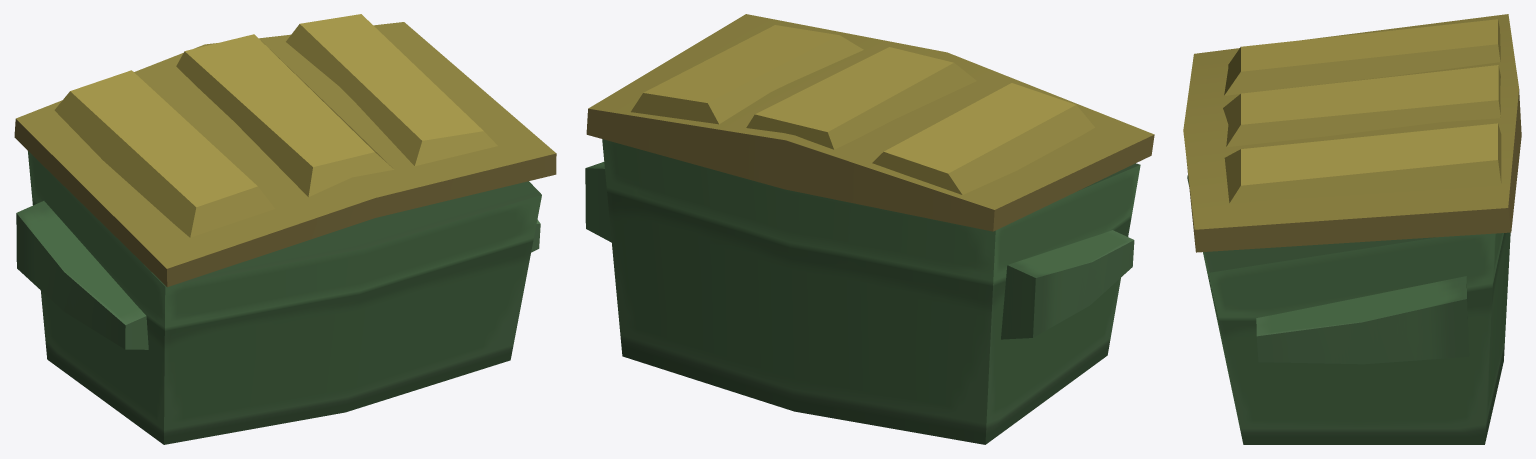
The model's file is Dumpster_A1.fbx.
3 renders of one model, left to right at view 1: azimuth 30°, elevation 25°; view 2: azimuth 150°, elevation 25°; view 3: azimuth 270°, elevation 25°, orthographic. The views are drawn at different scales.
Visible parts, largest first — view 1: Dumpster_A1; view 2: Dumpster_A1; view 3: Dumpster_A1.
Part boxes in pixels (x1,y1,x2,y2): Dumpster_A1: (14,14,556,444); Dumpster_A1: (585,14,1154,444); Dumpster_A1: (1183,14,1521,444).
Size of the model in its own units: 278 by 165 by 180.
